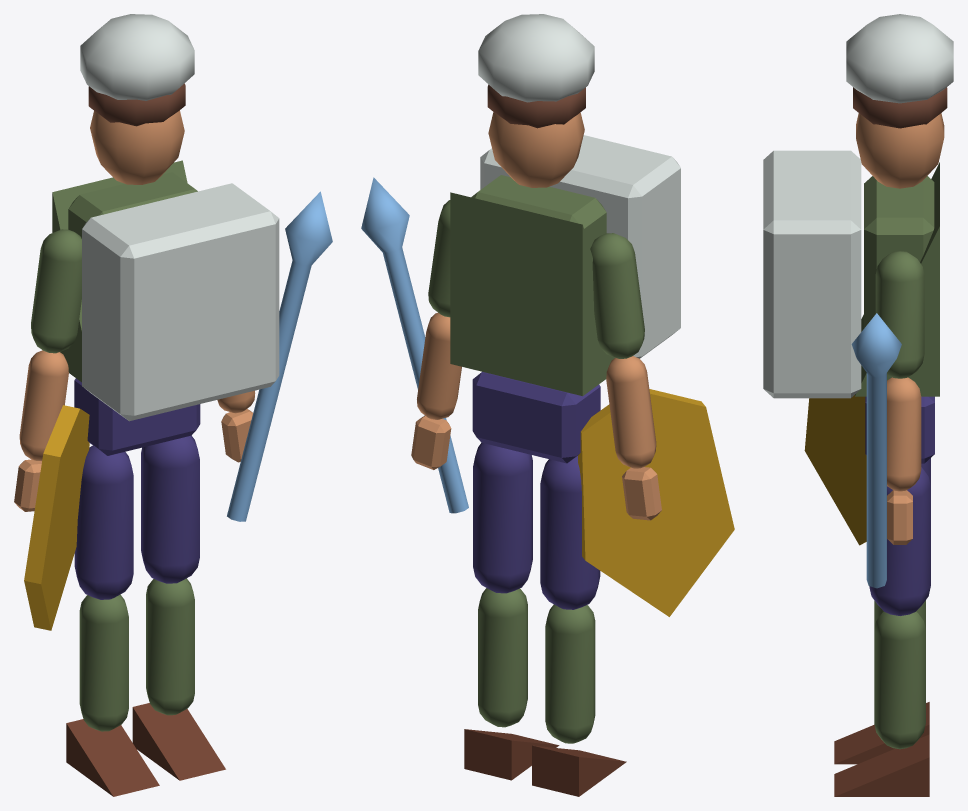
The model's file is adventurer.rustic.glb.
3 views of the same model, side by side, from view 1: azimuth 30°, elevation 25°; view 2: azimuth 150°, elevation 25°; view 3: azimuth 270°, elevation 25° (orthographic).
Visible parts, largest first — view 1: accessory.body, accessory.off-hand, thigh.right, accessory.head, thigh.left, accessory.main-hand, shin.left, shin.right, upper-arm.left, head, foot.right, foot.left (+8 smaller); view 2: tunic, accessory.off-hand, accessory.body, accessory.head, thigh.right, pelvis, thigh.left, shin.left, shin.right, accessory.main-hand, upper-arm.left, head (+9 smaller); view 3: accessory.body, accessory.head, shin.right, accessory.off-hand, accessory.main-hand, torso, upper-arm.right, head, thigh.right, foot.right, forearm.right, tunic (+4 smaller).
Boxes of the visible parts, x1,y1,x2,y2 form: accessory.body: (82,183,279,421); accessory.off-hand: (24,405,89,630); thigh.right: (141,435,199,583); accessory.head: (80,14,194,100); thigh.left: (74,445,133,599); accessory.main-hand: (227,191,332,521); shin.left: (79,594,128,731); shin.right: (146,578,194,715); upper-arm.left: (31,229,81,353); head: (90,110,184,184); foot.right: (132,703,225,780); foot.left: (66,719,159,796); tunic: (450,192,614,396); accessory.off-hand: (578,389,734,616); accessory.body: (480,135,680,358); accessory.head: (478,14,594,102); thigh.right: (473,442,532,593); pelvis: (472,371,600,463); thigh.left: (540,456,600,609); shin.left: (545,604,595,743); shin.right: (478,588,527,727); accessory.main-hand: (361,177,468,513); upper-arm.left: (590,233,644,358); head: (488,112,584,187); accessory.body: (763,150,861,398); accessory.head: (846,14,953,103); shin.right: (874,611,925,749); accessory.off-hand: (804,395,866,545); accessory.main-hand: (851,313,901,588); torso: (864,176,934,328); upper-arm.right: (875,251,924,378); head: (856,113,944,188); thigh.right: (869,467,930,615); foot.right: (834,734,929,796); forearm.right: (887,377,921,491); tunic: (855,162,939,396).
Size of the model in its own units: 1.52 by 3.2 by 0.738.
